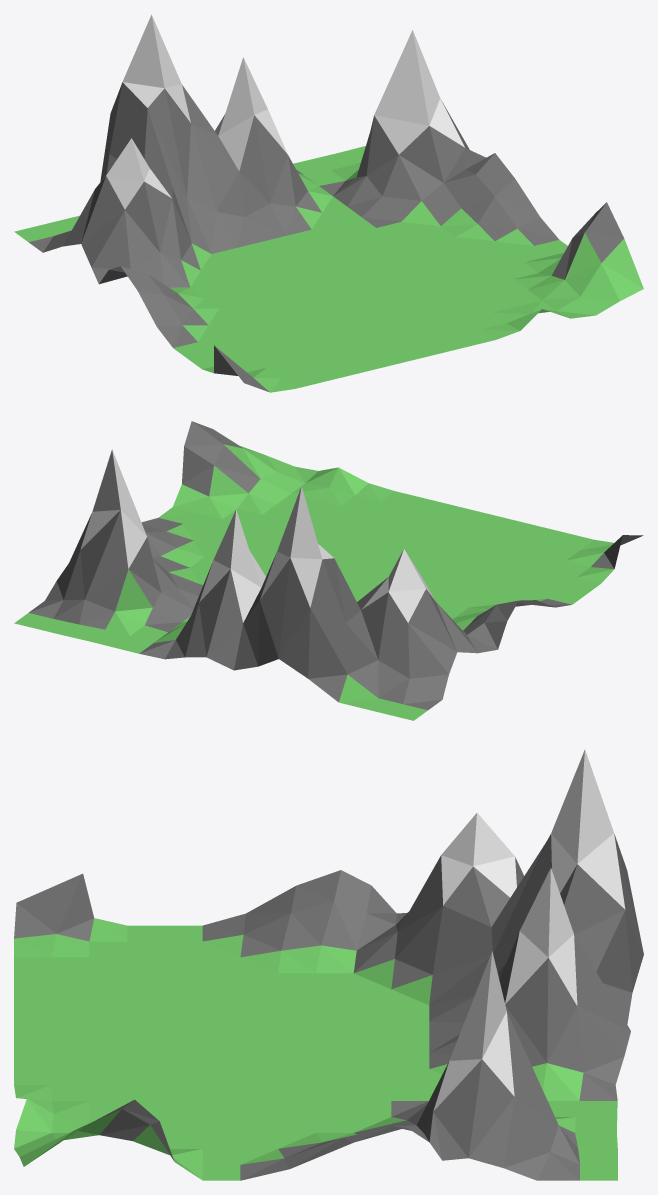
Rendered from mountain_landscape.dae.
The picture shows the model from 3 angles, top to bottom: view 1: azimuth 30°, elevation 25°; view 2: azimuth 150°, elevation 25°; view 3: azimuth 270°, elevation 25°; orthographic projection. The views are drawn at different scales.
Visible parts, largest first — view 1: Plane; view 2: Plane; view 3: Plane.
Part boxes in pixels (x1,y1,x2,y2): Plane: (14,14,643,392); Plane: (14,421,643,720); Plane: (14,750,643,1180).
Bounding box in the file's own units: 16.44 × 16.66 × 7.47.
